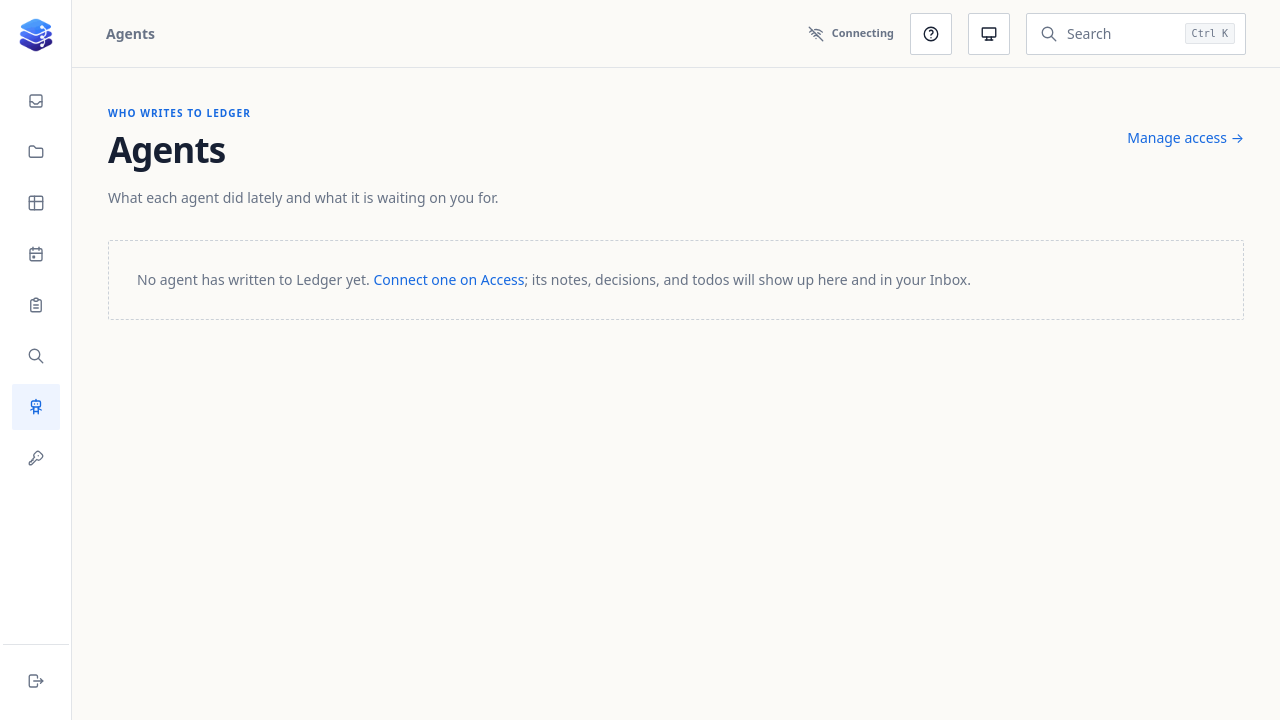
it: authenticated shell and routing › renders navigation, routes by path, and signs out with CSRF
expect the heading "Agents" is shown: met, box [108,126,225,173]
expect the link named "Projects" is shown: met, box [26,143,44,161]
Click the link named "Inbox" at (36, 101), box [26,92,44,110]
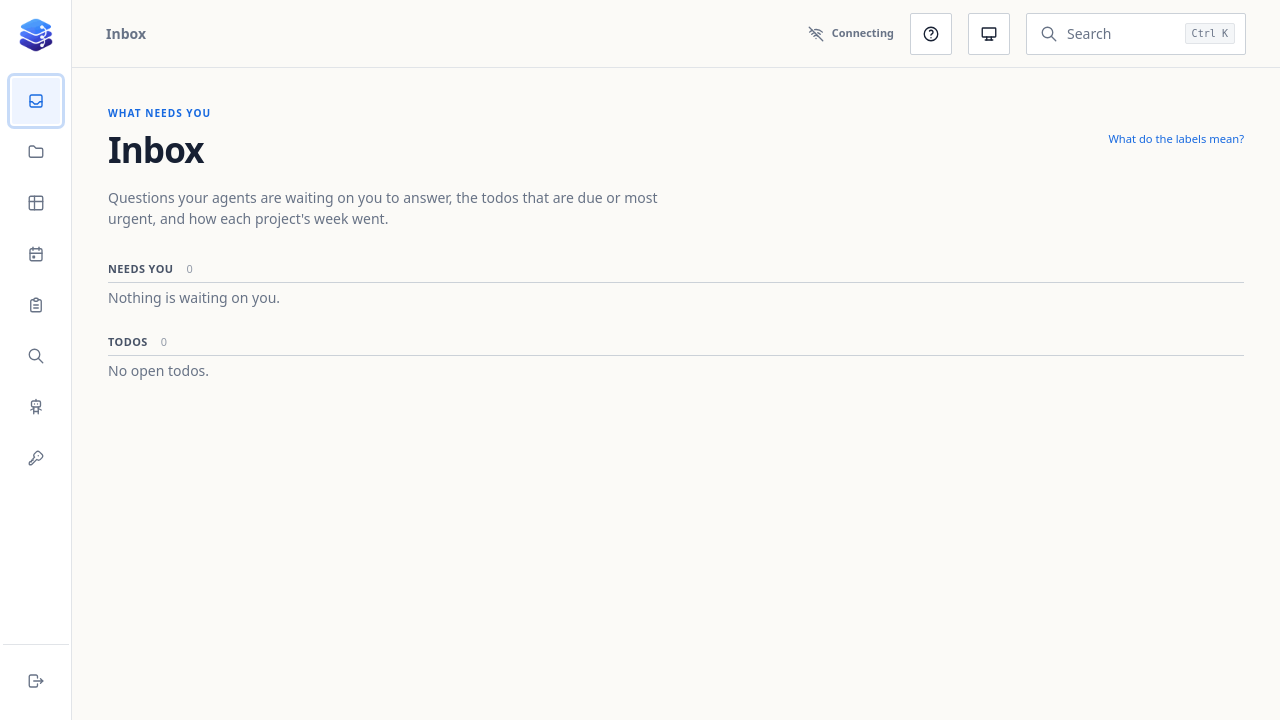
expect the heading "Inbox" is shown: met, box [108,129,211,171]
Click the button named "sign out" at (36, 681), box [12,660,60,702]
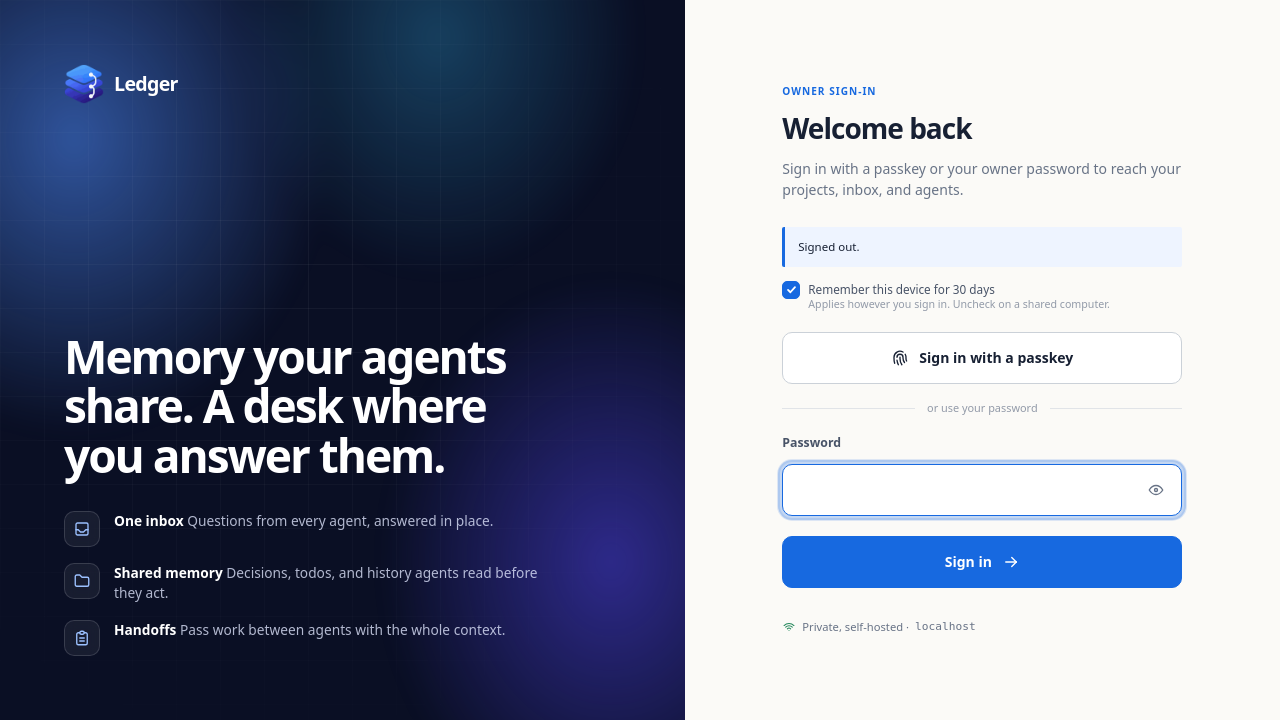
expect the heading "Welcome back" is shown: met, box [782,109,972,147]
expect the text "Signed out." is shown: met, box [782,227,1182,267]
